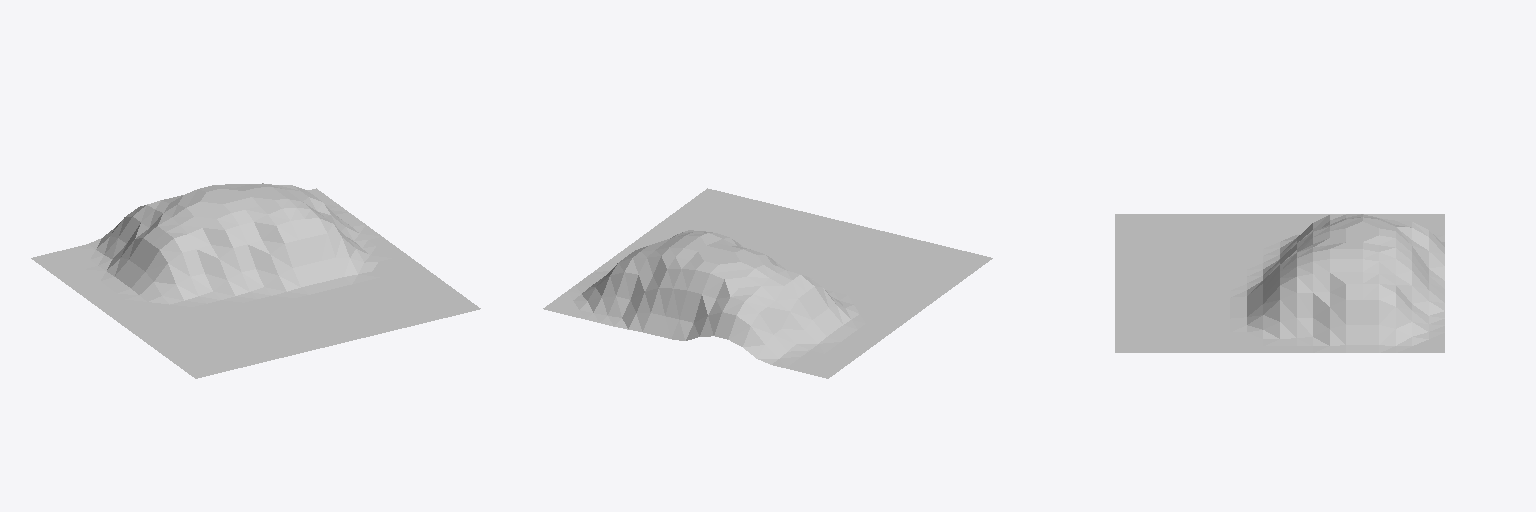
The model's file is mountain1.obj.
The picture shows the model from 3 angles: view 1: azimuth 30°, elevation 25°; view 2: azimuth 150°, elevation 25°; view 3: azimuth 270°, elevation 25°; orthographic projection.
Parts seen in each view (by area): view 1: pPlane1; view 2: pPlane1; view 3: pPlane1.
Part boxes in pixels (left/top/right/bottom): pPlane1: left=31, top=183, right=480, bottom=378; pPlane1: left=543, top=188, right=992, bottom=378; pPlane1: left=1115, top=214, right=1444, bottom=352.
Size of the model in its own units: 205 by 37.84 by 205.